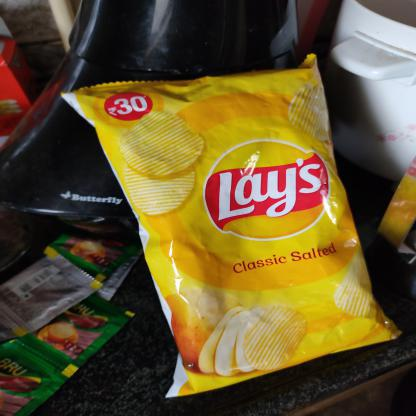classicsalted: (60, 52, 405, 399)
